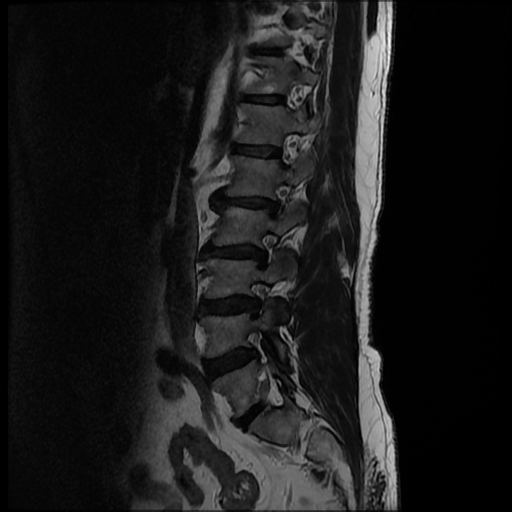RFS0: (248, 223, 284, 275), (258, 176, 295, 222)
RFS1: (245, 279, 281, 323)
